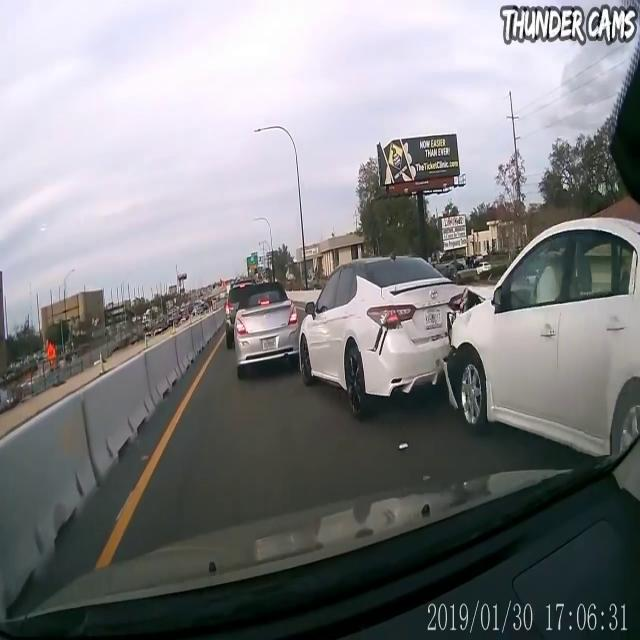accident: (336, 244, 560, 456)
